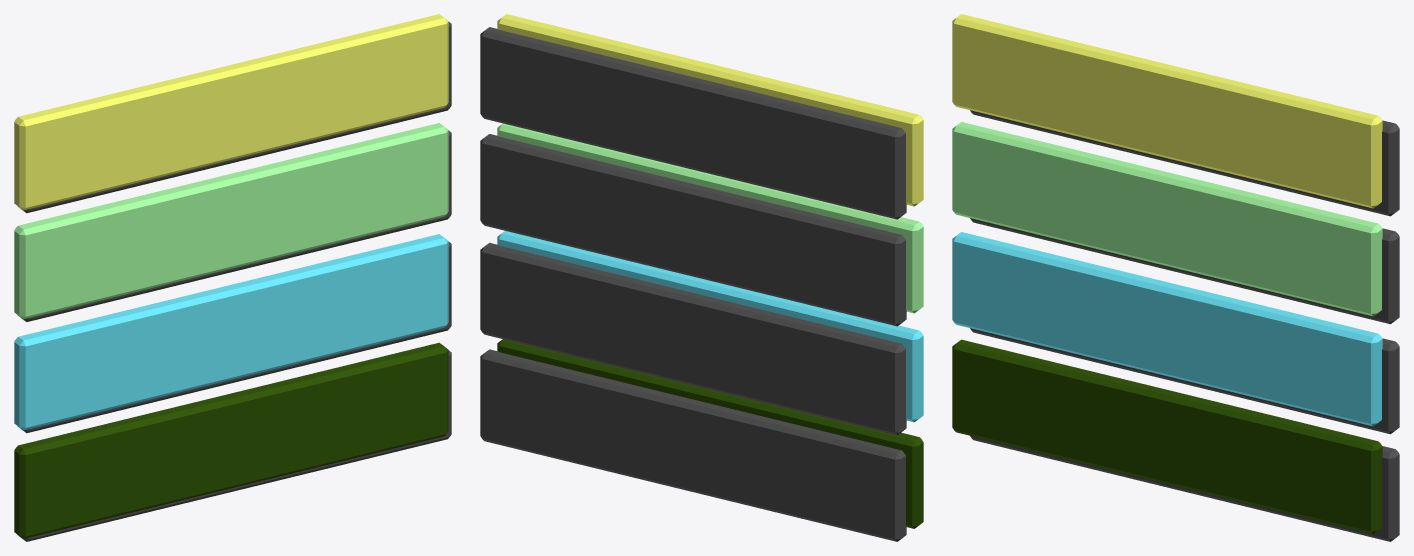
The model's file is StatsBars.fbx.
3 renders of one model, left to right at view 1: azimuth 30°, elevation 25°; view 2: azimuth 150°, elevation 25°; view 3: azimuth 330°, elevation 25°, orthographic.
Parts seen in each view (by area): view 1: Cube.005, Cube.001, Cube.003, Cube.007, Cube.008, Cube.002, Cube.004, Cube.006; view 2: Cube.008, Cube.004, Cube.006, Cube.002, Cube.001, Cube.005, Cube.003, Cube.007; view 3: Cube.001, Cube.005, Cube.003, Cube.007, Cube.004, Cube.006, Cube.002, Cube.008.
Part boxes in pixels (left/top/right/bottom): Cube.005: left=14, top=234, right=448, bottom=430; Cube.001: left=14, top=14, right=448, bottom=210; Cube.003: left=14, top=123, right=448, bottom=319; Cube.007: left=14, top=342, right=448, bottom=538; Cube.008: left=18, top=350, right=451, bottom=541; Cube.002: left=17, top=22, right=451, bottom=213; Cube.004: left=17, top=130, right=451, bottom=321; Cube.006: left=17, top=242, right=451, bottom=433; Cube.008: left=480, top=349, right=906, bottom=541; Cube.004: left=480, top=134, right=906, bottom=326; Cube.006: left=480, top=242, right=906, bottom=435; Cube.002: left=480, top=27, right=906, bottom=219; Cube.001: left=497, top=14, right=923, bottom=206; Cube.005: left=497, top=231, right=923, bottom=422; Cube.003: left=497, top=123, right=923, bottom=313; Cube.007: left=497, top=339, right=923, bottom=528; Cube.001: left=952, top=14, right=1382, bottom=208; Cube.005: left=952, top=232, right=1382, bottom=426; Cube.003: left=952, top=122, right=1382, bottom=316; Cube.007: left=952, top=339, right=1382, bottom=533; Cube.004: left=970, top=218, right=1399, bottom=324; Cube.006: left=970, top=328, right=1399, bottom=434; Cube.002: left=970, top=110, right=1399, bottom=216; Cube.008: left=970, top=436, right=1399, bottom=541.
Bounding box in the file's own units: 1024 × 955 × 68.55.
